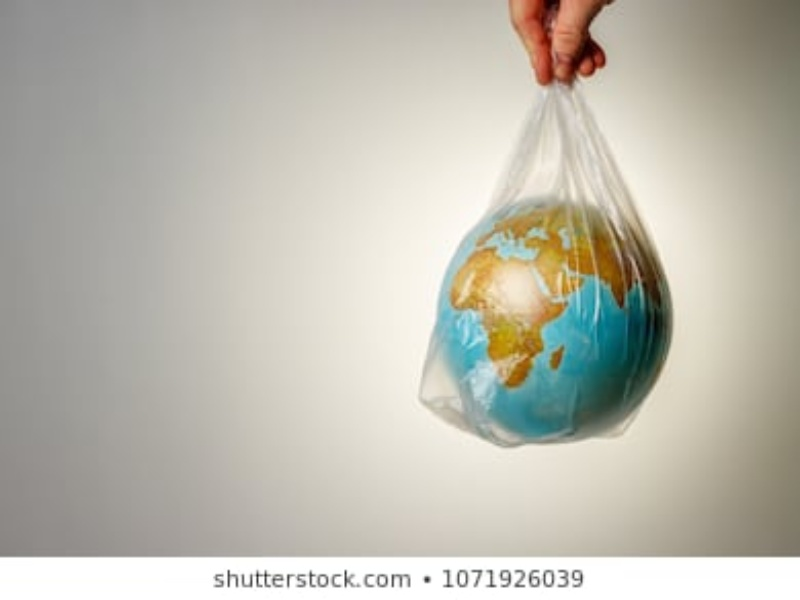plastic-bag: (415, 75, 676, 447)
